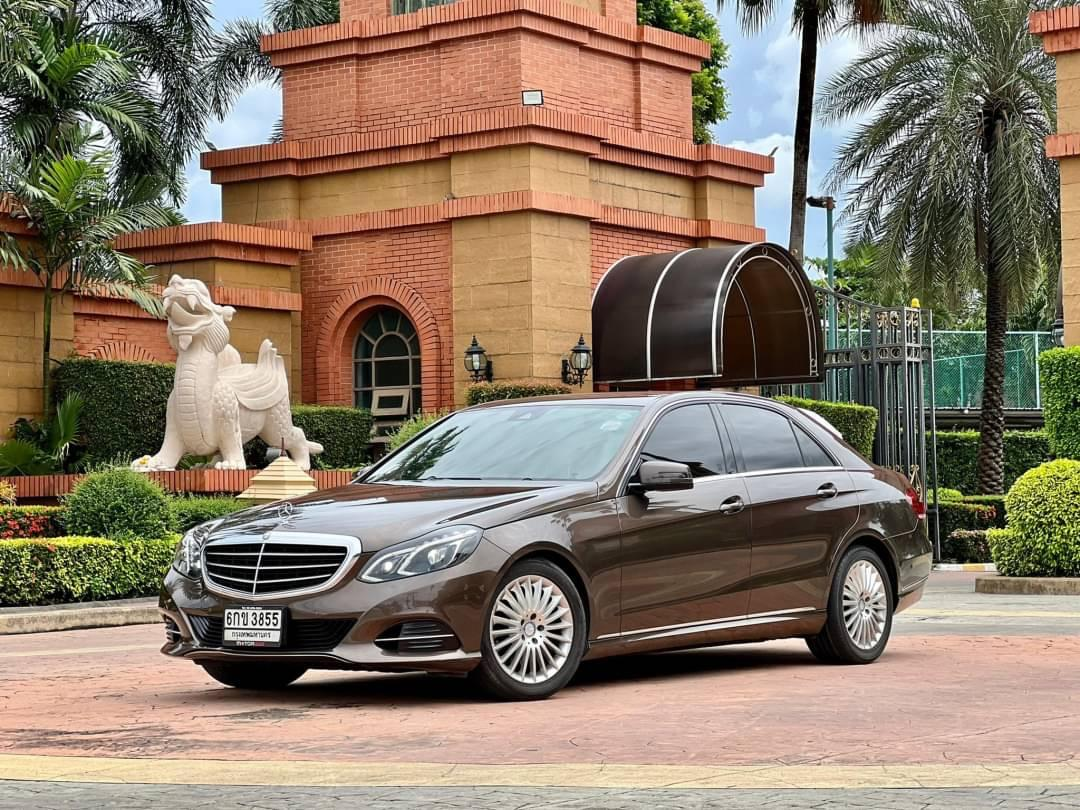license-plate: (220, 600, 288, 650)
